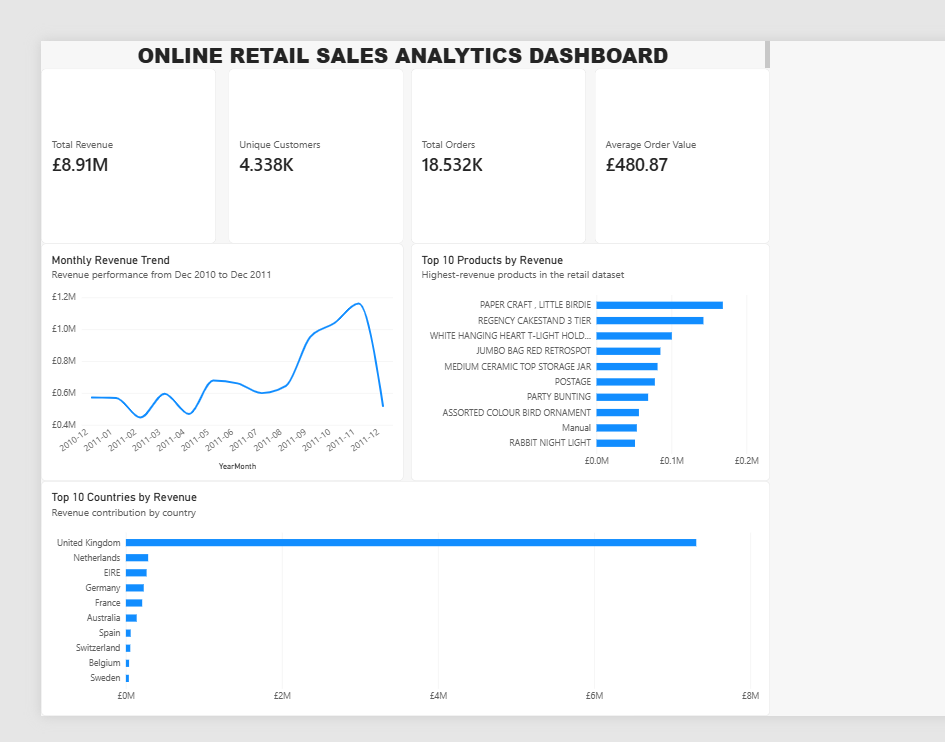

The page's visual inventory and layout, read from the dashboard file:
{"tool":"powerbi","page":{"name":"Page 1","canvas":[1920,1080],"ordinal":0},"visuals":[{"type":"cardVisual","fields":{"Data":["Sum(online_retail_db online_retail.Revenue)"]},"box":[0,44,280,280],"z":0},{"type":"cardVisual","fields":{"Data":["Count(online_retail_db online_retail.CustomerID)"]},"box":[300,44,280,280],"z":1},{"type":"cardVisual","fields":{"Data":["Count(online_retail_db online_retail.InvoiceNo)"]},"box":[592,44,280,280],"z":2},{"type":"cardVisual","fields":{"Data":["online_retail_db online_retail.Average Order Value"]},"box":[886,44,280,280],"z":3},{"type":"lineChart","title":"Monthly Revenue Trend","fields":{"Category":["online_retail_db online_retail.YearMonth"],"Y":["Sum(online_retail_db online_retail.Revenue)"]},"box":[0,324,580,380],"z":4},{"type":"clusteredBarChart","title":"Top 10 Products by Revenue","fields":{"Category":["online_retail_db online_retail.Description"],"Y":["Sum(online_retail_db online_retail.Revenue)"]},"box":[592,324,574,380],"z":5},{"type":"clusteredBarChart","title":"Top 10 Countries by Revenue","fields":{"Category":["online_retail_db online_retail.Country"],"Y":["Sum(online_retail_db online_retail.Revenue)"]},"box":[0,704,1166,376],"z":6},{"type":"textbox","box":[1192,0,280,280],"z":7},{"type":"textbox","box":[0,0,1166,44],"z":8}]}

Visuals, with their boxes on the page's 1920x1080 design canvas (x1, y1, x2, y2). These are canvas units, not pixel positions in the 945x742 screenshot, which may show the page scaled, cropped or inside an application window:
cardVisual - Sum(online_retail_db online_retail.Revenue): <region>0, 44, 280, 324</region>
cardVisual - Count(online_retail_db online_retail.CustomerID): <region>300, 44, 580, 324</region>
cardVisual - Count(online_retail_db online_retail.InvoiceNo): <region>592, 44, 872, 324</region>
cardVisual - online_retail_db online_retail.Average Order Value: <region>886, 44, 1166, 324</region>
"Monthly Revenue Trend" lineChart: <region>0, 324, 580, 704</region>
"Top 10 Products by Revenue" clusteredBarChart: <region>592, 324, 1166, 704</region>
"Top 10 Countries by Revenue" clusteredBarChart: <region>0, 704, 1166, 1080</region>
textbox: <region>1192, 0, 1472, 280</region>
textbox: <region>0, 0, 1166, 44</region>
